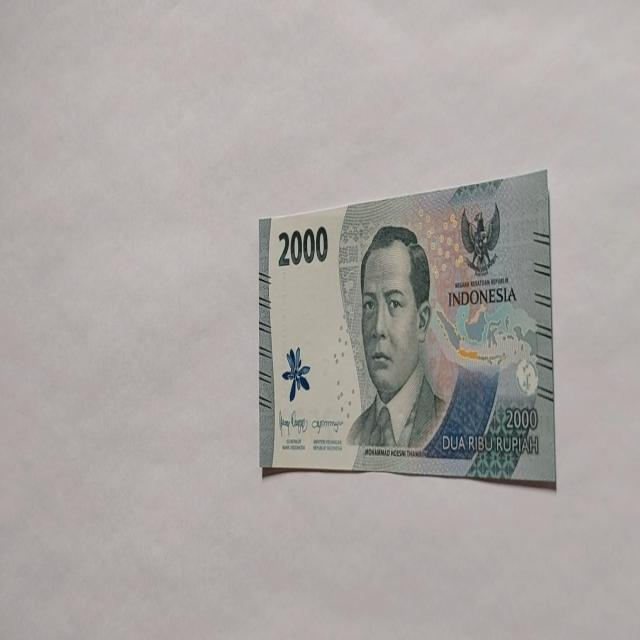dua ribu rupiah: (258, 168, 556, 486), (346, 224, 448, 452)
